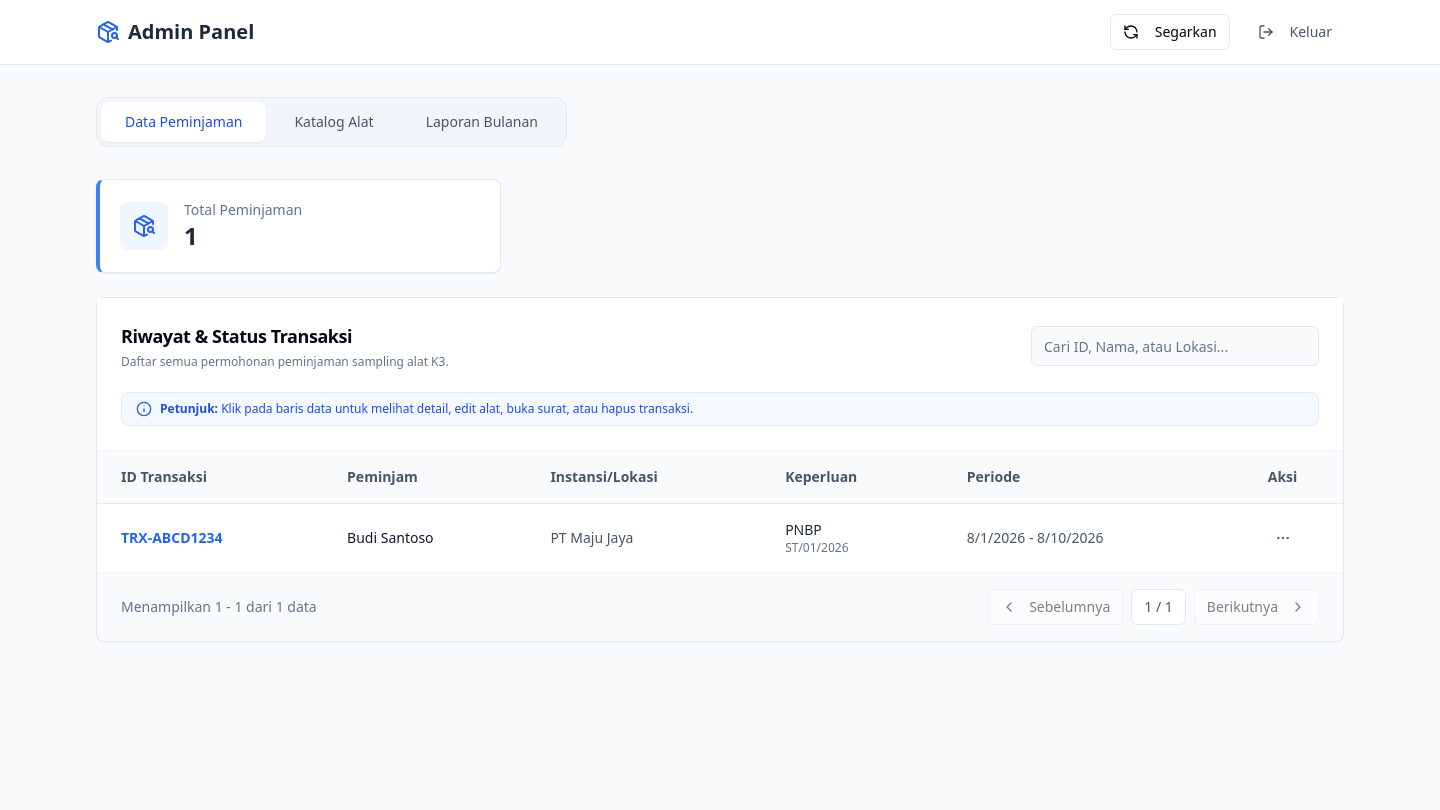
Test: AdminDashboard — Tab Transaksi & Fitur Aksi (Row-Click & ActionPanel) › harus membuka dialog konfirmasi Hapus saat aksi Hapus Transaksi dipilih dari panel
Note: Klik baris
What coordinates should you click on to do the following:
click the text "TRX-ABCD1234"
I would click on:
 (210, 538)
Its box is [97,504,323,572].
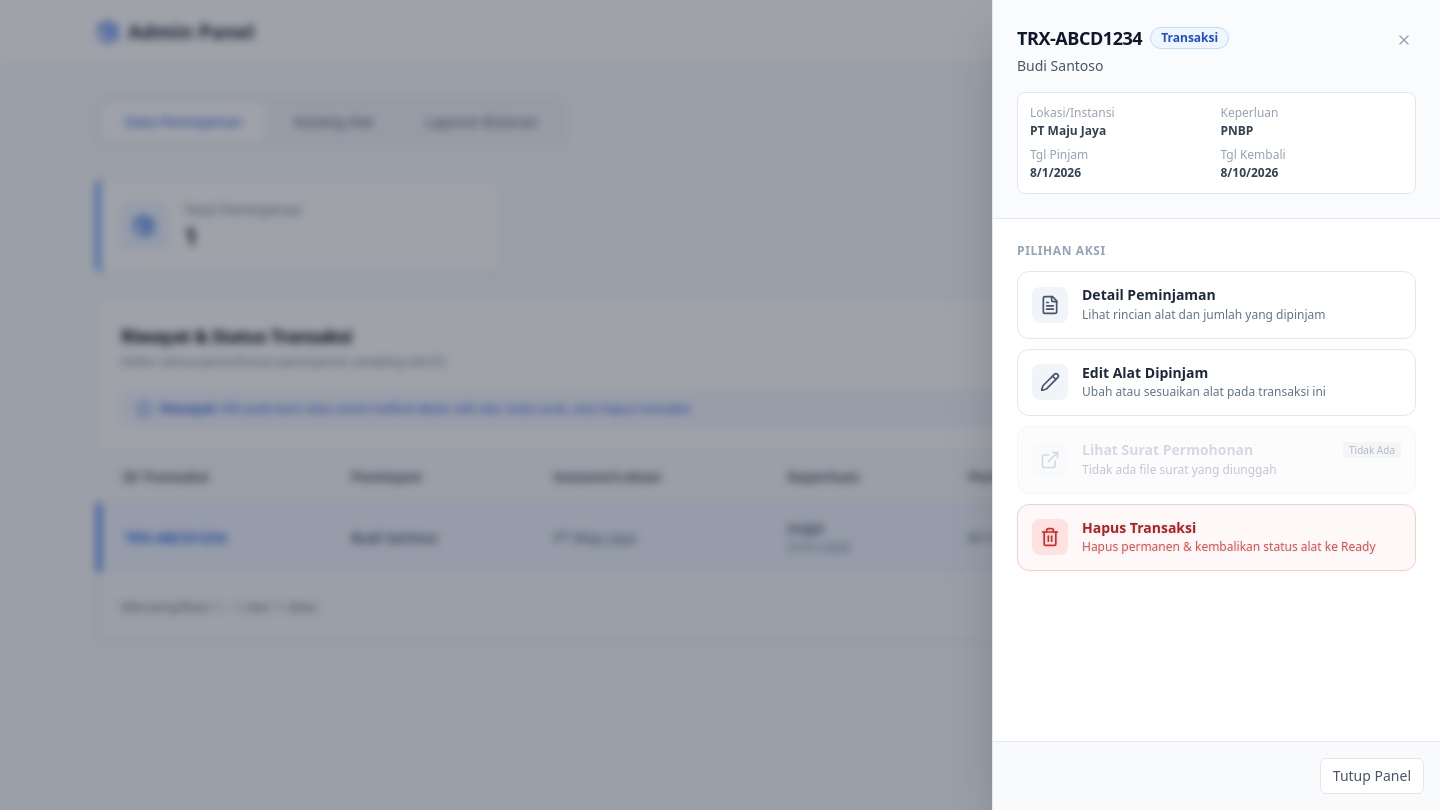
Note: Klik Hapus Transaksi di panel
What coordinates should you click on to do the following:
click the button "Hapus Transaksi"
I would click on:
 (1216, 537)
Its box is [1017,504,1416,571].
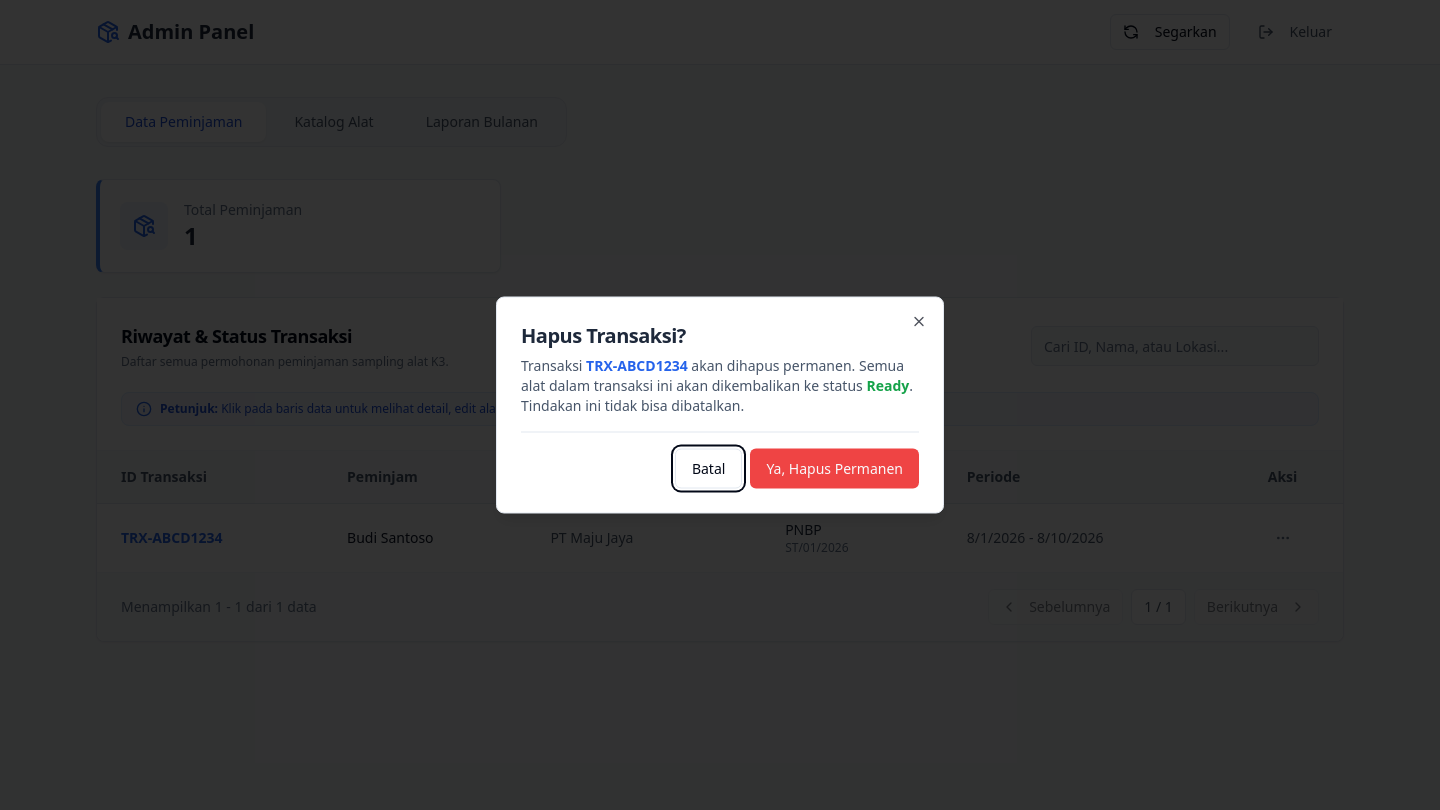
Check: the heading "Hapus Transaksi?" is shown, box [521,322,686,348]
Check: the button "Ya, Hapus Permanen" is shown, box [750,448,919,488]
